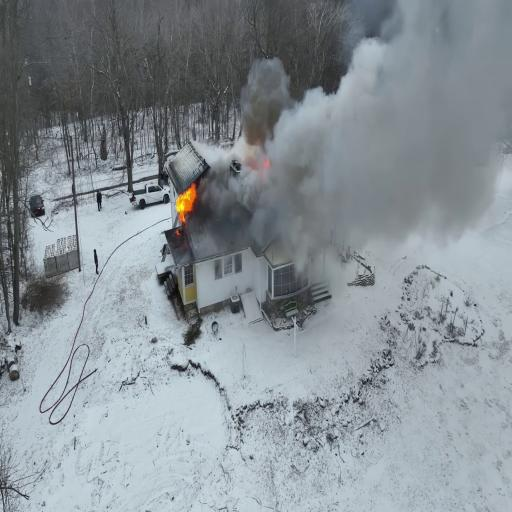fire: (172, 181, 196, 222)
smoke: (261, 80, 413, 186)
